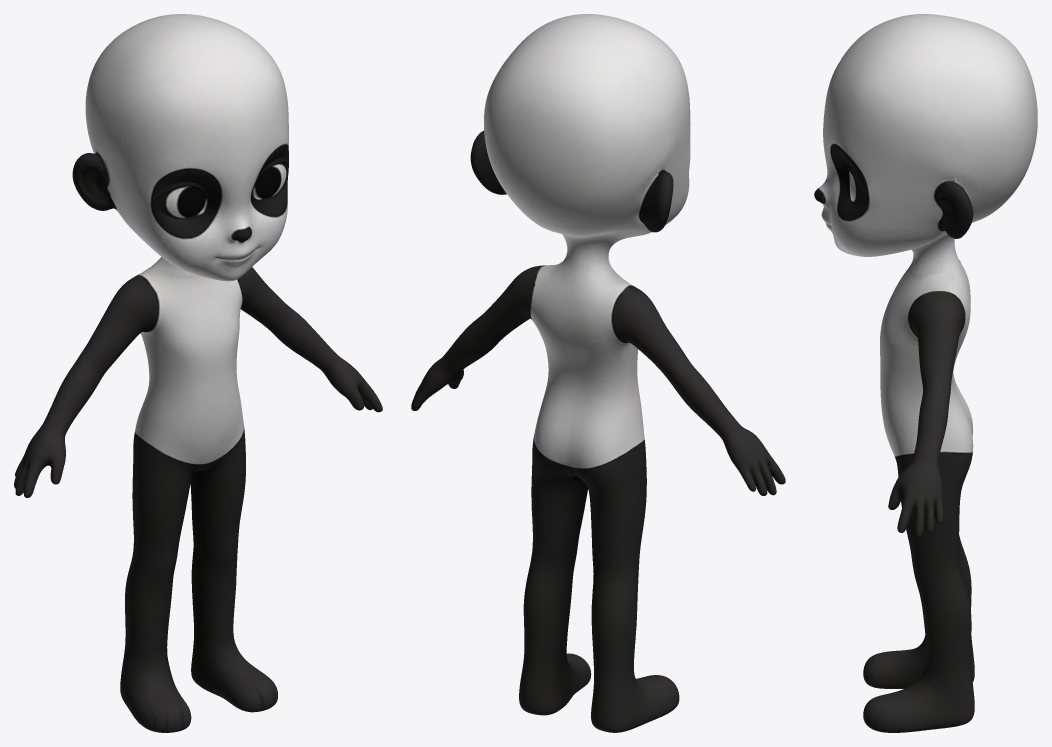
File: skin-panda-comprimido-B-SQ7Zb7.glb
3 renders of one model, left to right at view 1: azimuth 30°, elevation 25°; view 2: azimuth 150°, elevation 25°; view 3: azimuth 270°, elevation 25°, orthographic.
Size of the model in its own units: 4.44 by 8 by 2.39.
Materials: 1 (1 with a texture image).
